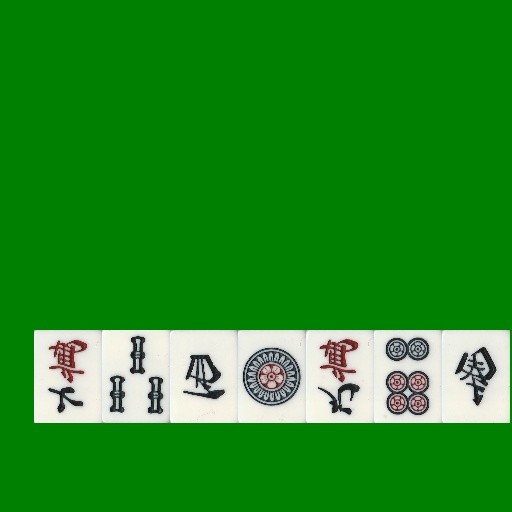1p: (238, 330, 306, 423)
3s: (102, 330, 170, 423)
6p: (374, 330, 442, 423)
7m: (34, 330, 102, 423)
9m: (306, 330, 374, 423)
south: (442, 330, 510, 423)
west: (170, 330, 238, 423)
